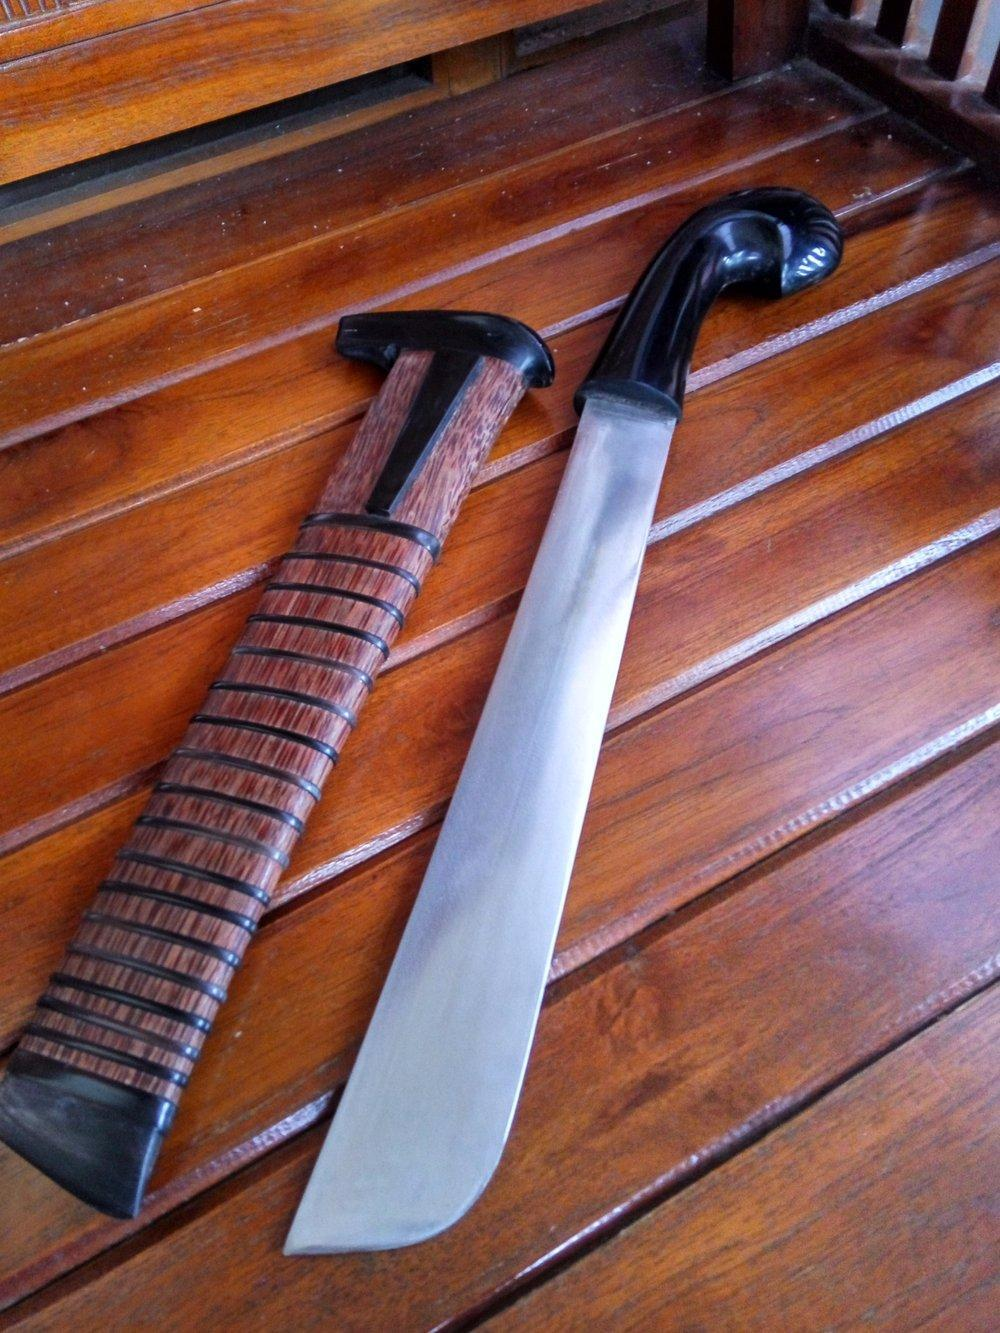facao: (286, 188, 842, 1253)
